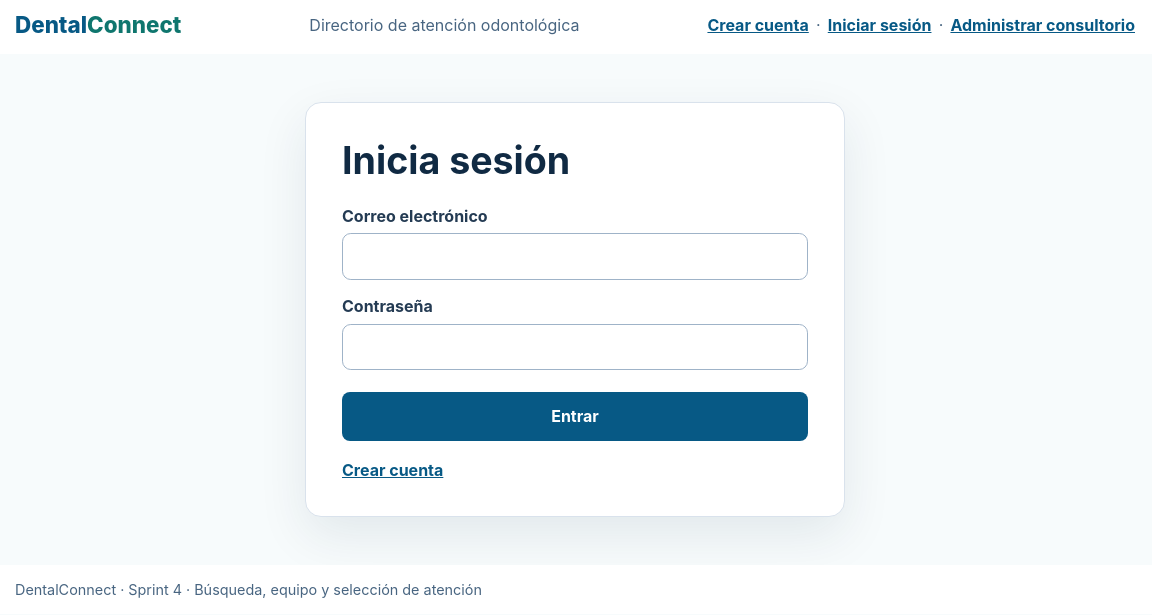
Test: Sprint 2 account flow › takes a verified patient to My Account and closes the session
Step 1. Type "paciente@example.com" into the field labelled "Correo electrónico" → (575, 257), box [342,233,808,280]
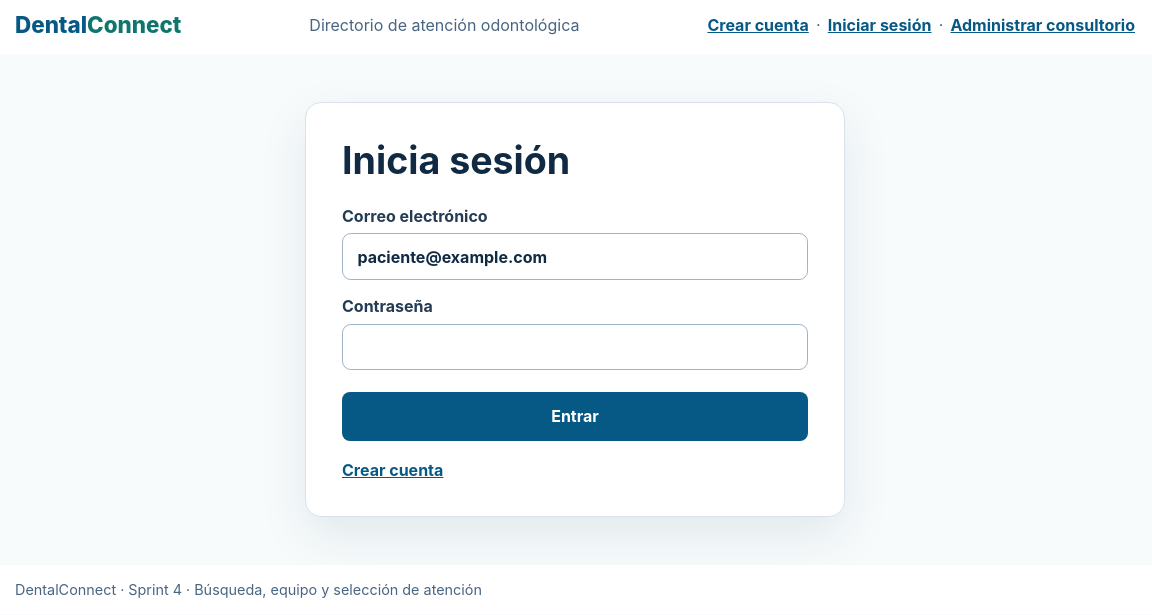
Step 2. Type "DentConnect123!" into the password field labelled "Contraseña" → (575, 347), box [342,324,808,370]
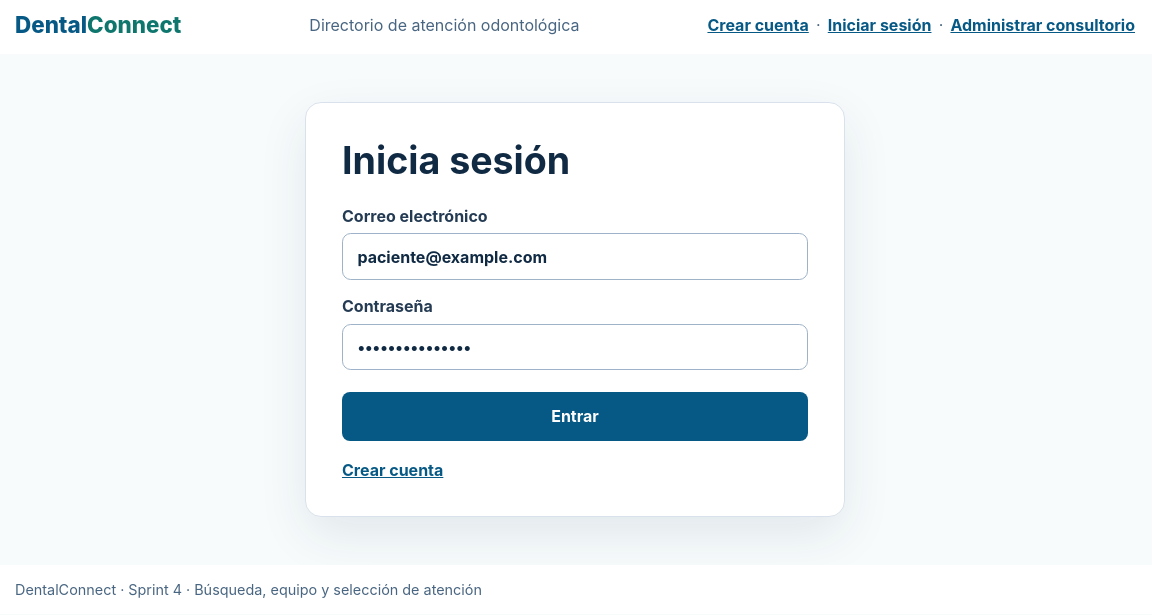
Step 3. Click the button "Entrar" → (575, 416), box [342,392,808,441]
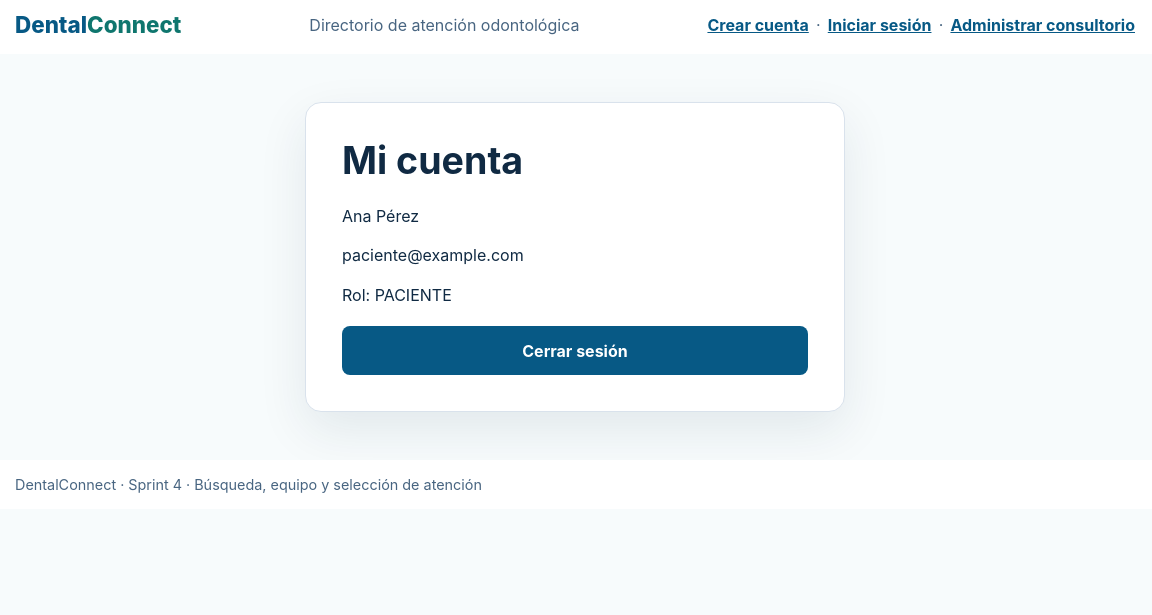
Result: the heading "Mi cuenta" is shown at [342,138,523,183]
Result: the text "Ana Pérez" is shown at [342,206,419,226]
Result: the text "paciente@example.com" is shown at [342,245,524,265]
Step 4. Click the button "Cerrar sesión" → (575, 351), box [342,326,808,375]
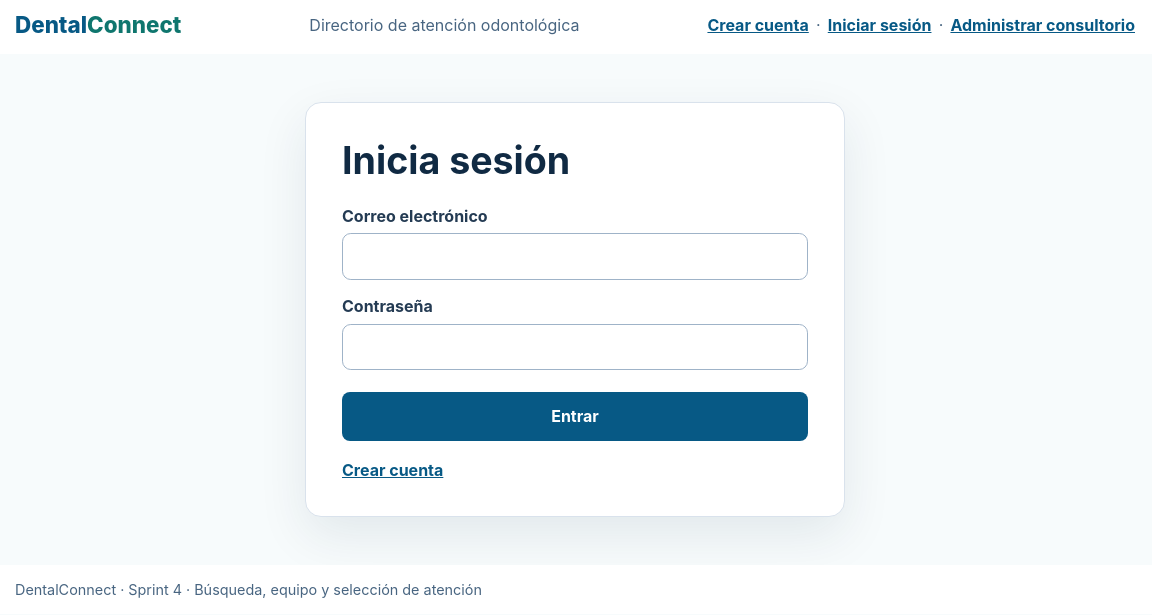
Result: the heading "Inicia sesión" is shown at [342,138,570,183]
